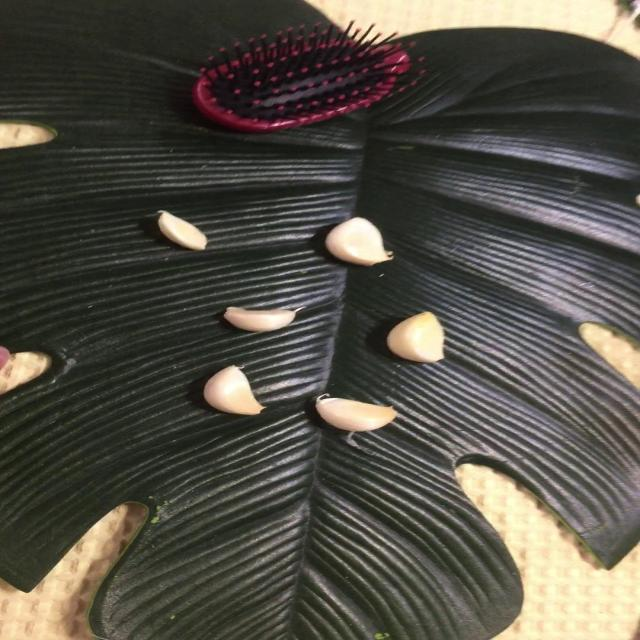garlic: (196, 362, 271, 424), (323, 212, 394, 272), (380, 308, 449, 368), (307, 391, 398, 434), (212, 297, 301, 339), (145, 208, 214, 257)
